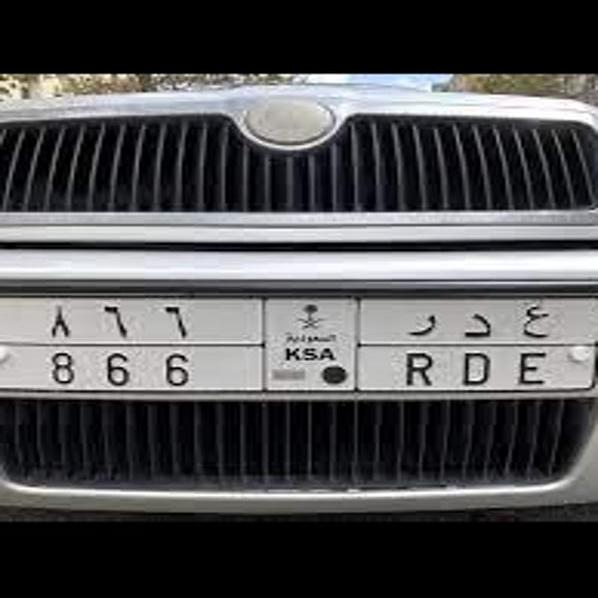numberplate: (33, 300, 555, 395)
